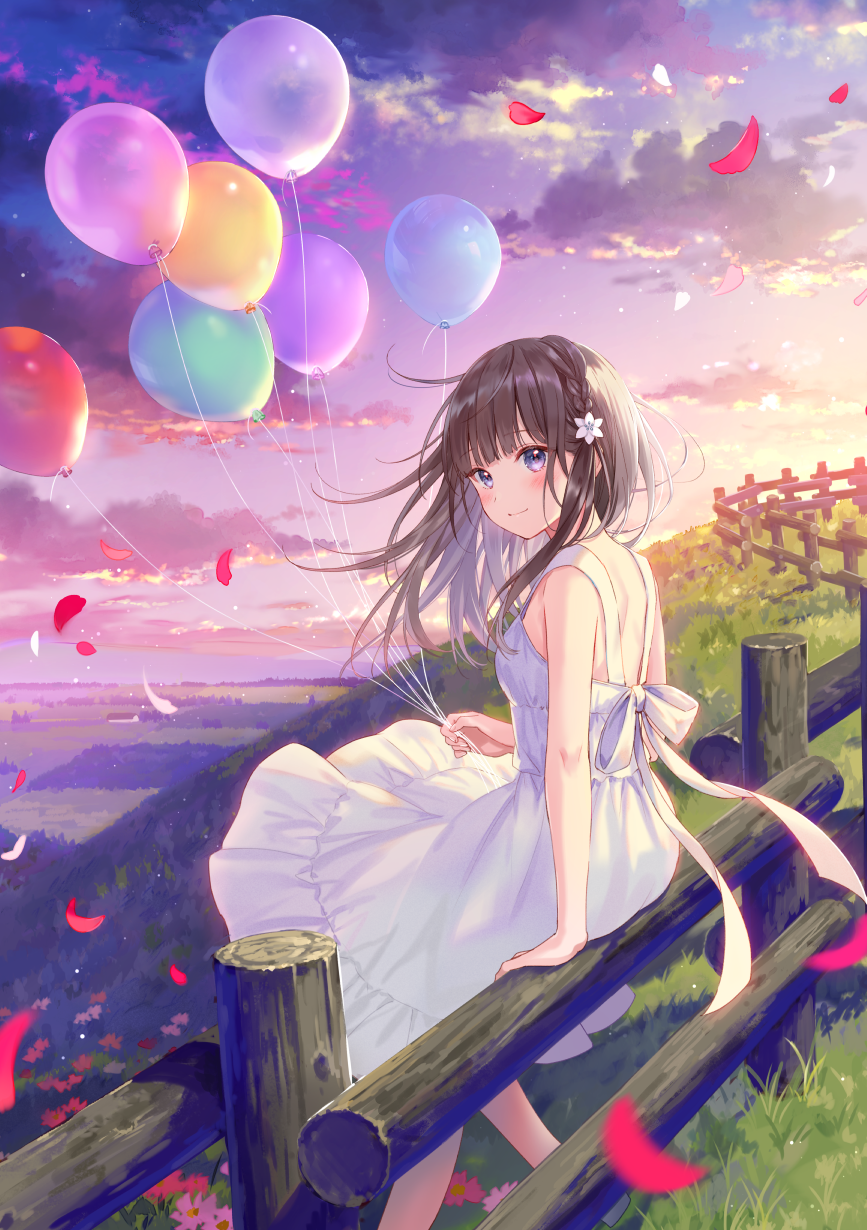纸片人正脸: (428, 333, 645, 551)
